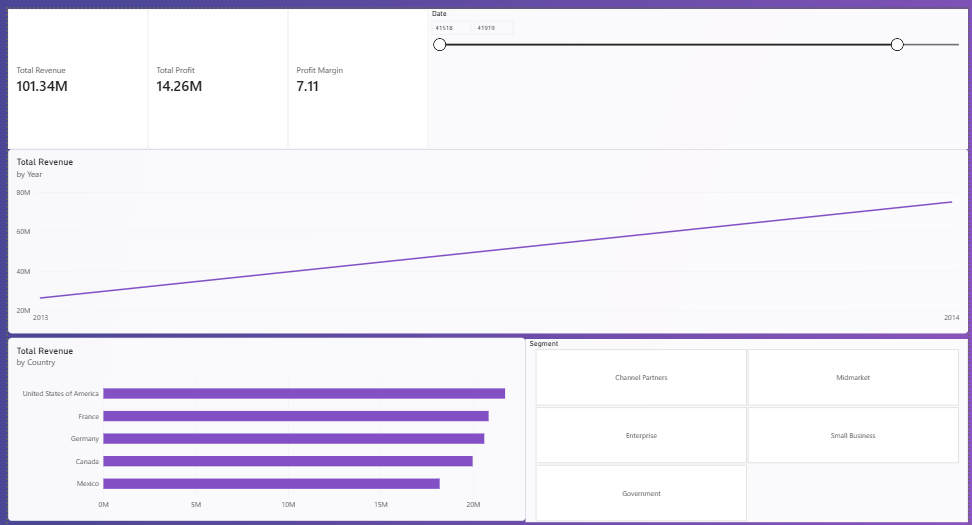

The page's visual inventory and layout, read from the dashboard file:
{"tool":"powerbi","page":{"name":"Page 1","canvas":[1920,1080],"ordinal":0},"visuals":[{"type":"cardVisual","fields":{"Data":["Sample data (1) xlsx - Sheet1.Total Revenue"]},"box":[0,0,389,321.1],"z":0},{"type":"cardVisual","fields":{"Data":["Sample data (1) xlsx - Sheet1.Total Profit"]},"box":[390,0,389,321],"z":1},{"type":"cardVisual","fields":{"Data":["Sample data (1) xlsx - Sheet1.Profit Margin"]},"box":[778,0,389,321],"z":2},{"type":"lineChart","fields":{"Category":["Sample data (1) xlsx - Sheet1.Date.Variation.Date Hierarchy.Year","Sample data (1) xlsx - Sheet1.Date.Variation.Date Hierarchy.Quarter","Sample data (1) xlsx - Sheet1.Date.Variation.Date Hierarchy.Month","Sample data (1) xlsx - Sheet1.Date.Variation.Date Hierarchy.Day"],"Y":["Sample data (1) xlsx - Sheet1.Total Revenue"]},"box":[0,320,1920,432.5],"z":3},{"type":"clusteredBarChart","fields":{"Category":["Sample data (1) xlsx - Sheet1.Country","Sample data (1) xlsx - Sheet1.Segment"],"Y":["Sample data (1) xlsx - Sheet1.Total Revenue"]},"box":[0,753.1,1116.3,326.5],"z":4},{"type":"slicer","fields":{"Values":["Sample data (1) xlsx - Sheet1.Date"]},"box":[1167.5,0,752.5,332.5],"z":5},{"type":"slicer","fields":{"Values":["Sample data (1) xlsx - Sheet1.Segment"]},"box":[1116,753,804,327],"z":6},{"type":"textbox","box":[660,0,507.5,60],"z":7}]}

Visuals, with their boxes on the page's 1920x1080 design canvas (x1, y1, x2, y2). These are canvas units, not pixel positions in the 972x525 screenshot, which may show the page scaled, cropped or inside an application window:
cardVisual - Sample data (1) xlsx - Sheet1.Total Revenue: detection(0, 0, 389, 321)
cardVisual - Sample data (1) xlsx - Sheet1.Total Profit: detection(390, 0, 779, 321)
cardVisual - Sample data (1) xlsx - Sheet1.Profit Margin: detection(778, 0, 1167, 321)
lineChart - Sample data (1) xlsx - Sheet1.Date.Variation.Date Hierarchy.Year x Sample data (1) xlsx - Sheet1.Date.Variation.Date Hierarchy.Quarter: detection(0, 320, 1920, 752)
clusteredBarChart - Sample data (1) xlsx - Sheet1.Country x Sample data (1) xlsx - Sheet1.Segment: detection(0, 753, 1116, 1080)
slicer - Sample data (1) xlsx - Sheet1.Date: detection(1168, 0, 1920, 332)
slicer - Sample data (1) xlsx - Sheet1.Segment: detection(1116, 753, 1920, 1080)
textbox: detection(660, 0, 1168, 60)
